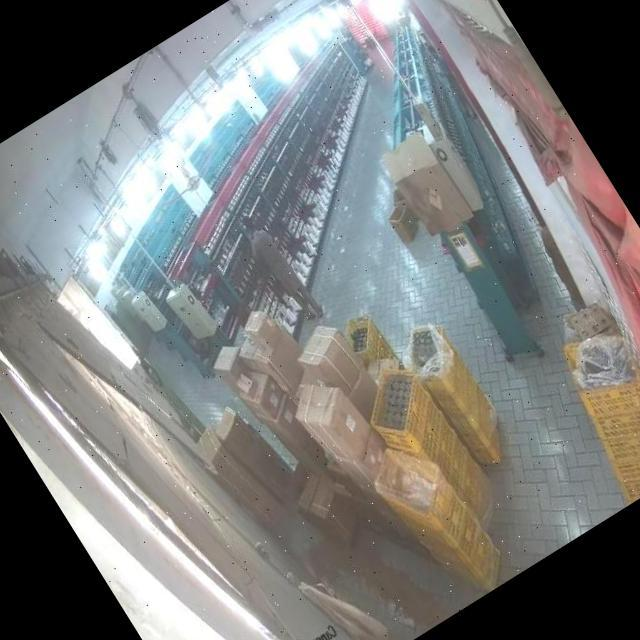person: (238, 207, 328, 330)
